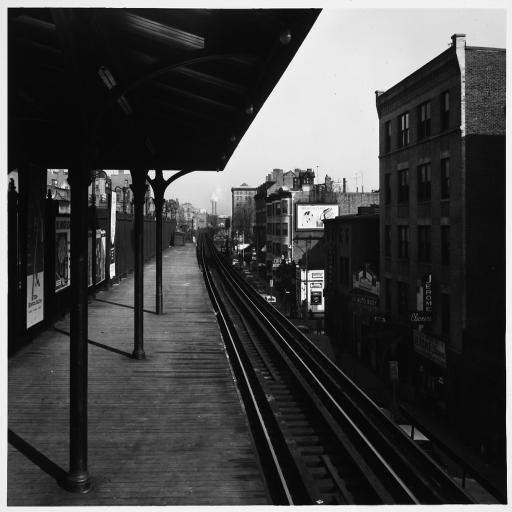platform_edge: (187, 274, 294, 512)
